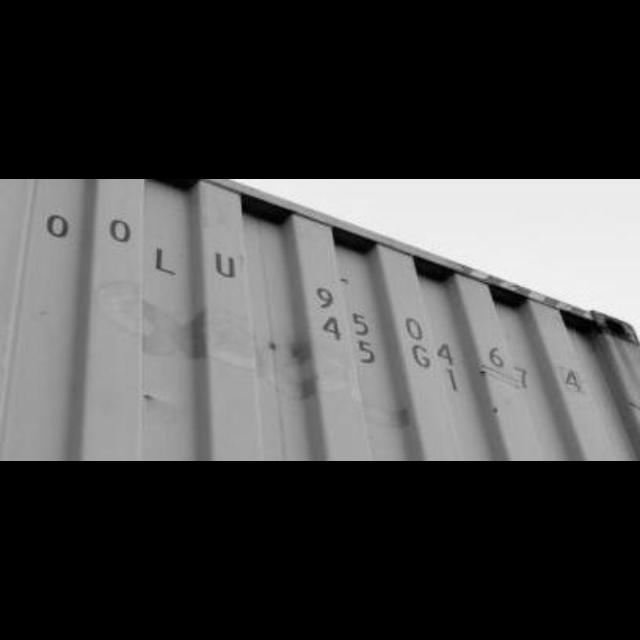0: (402, 314, 426, 346)
1: (441, 366, 464, 396)
4: (557, 363, 593, 401), (318, 312, 344, 343), (435, 338, 459, 366)
5: (348, 305, 378, 339), (354, 338, 381, 366)
6: (484, 344, 510, 368)
7: (514, 363, 534, 392)
9: (312, 282, 340, 316)
g: (410, 342, 432, 372)
l: (150, 243, 183, 289)
o: (104, 212, 138, 250), (42, 208, 74, 246)
u: (210, 246, 240, 286)
